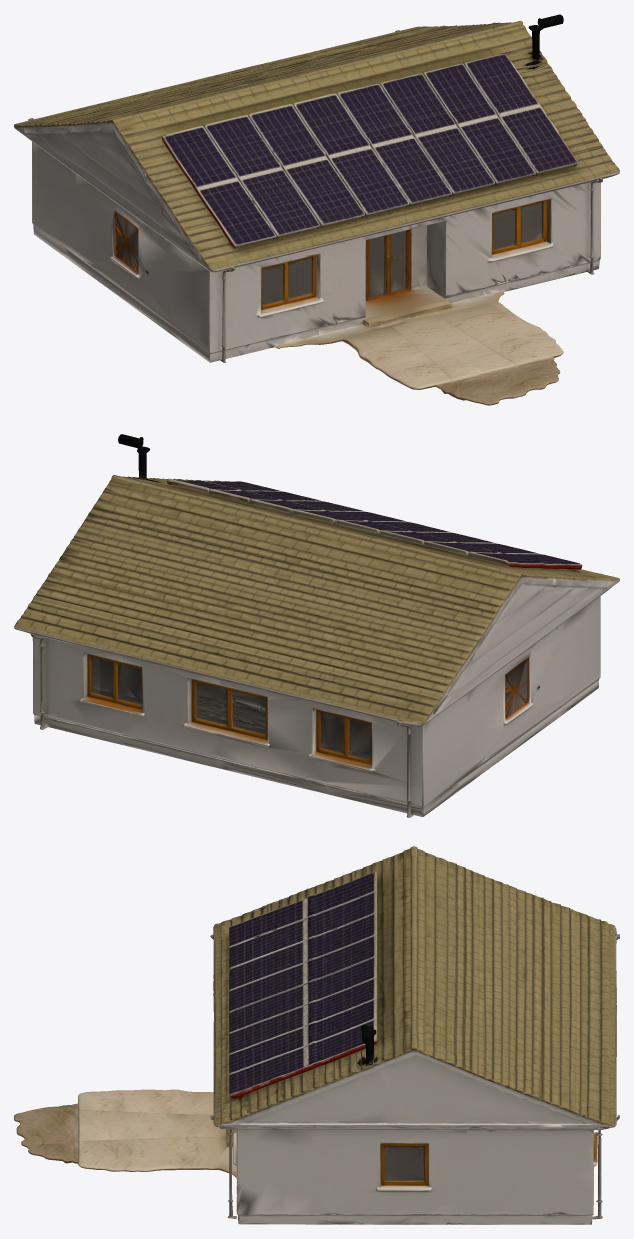
The model's file is house-solar.glb.
3 views of the same model, one above another, from view 1: azimuth 30°, elevation 25°; view 2: azimuth 150°, elevation 25°; view 3: azimuth 270°, elevation 25° (orthographic).
Parts seen in each view (by area): view 1: world; view 2: world; view 3: world.
Boxes of the visible parts, left/top/right/bottom form: world: left=14, top=14, right=619, bottom=405; world: left=14, top=434, right=619, bottom=817; world: left=14, top=846, right=619, bottom=1224.
Size of the model in its own units: 0.8134 by 0.375 by 0.9999.
1 material, 1 textured.
